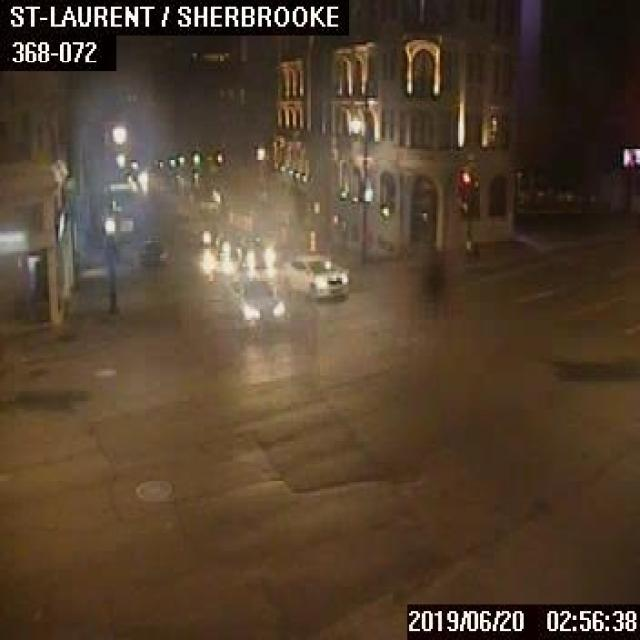construction: (306, 228, 315, 250)
vehicle: (229, 275, 285, 329), (281, 254, 348, 299), (233, 233, 276, 267), (136, 236, 166, 262), (214, 228, 238, 252)
